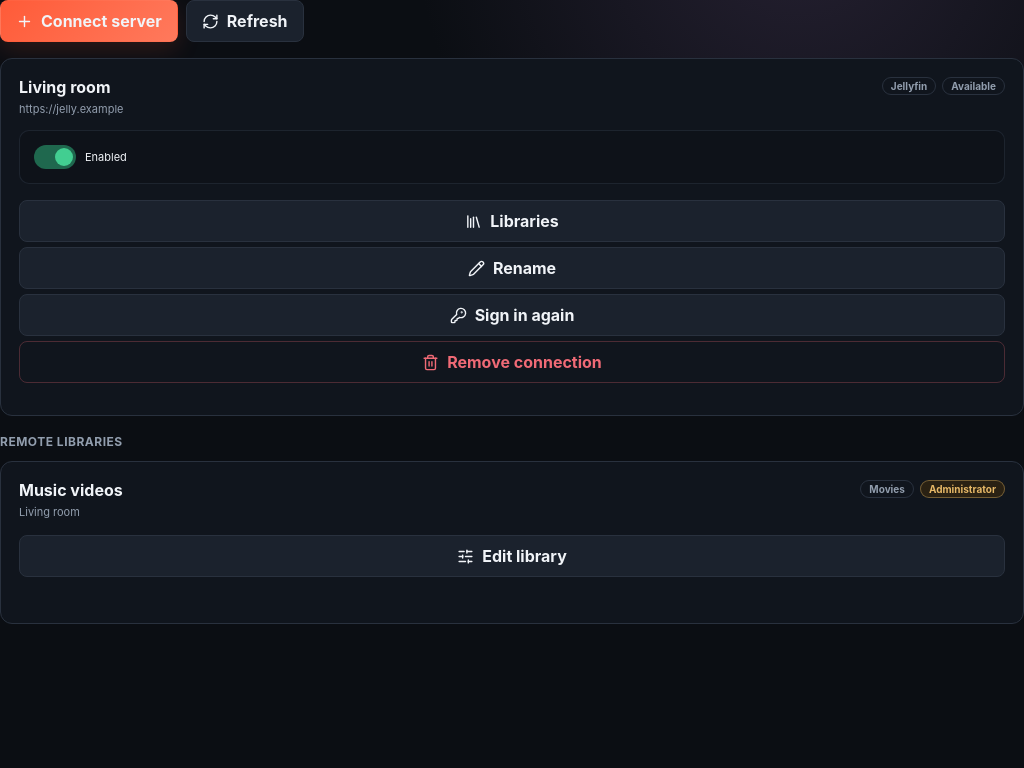
Test: RemoteLibraryDialog › shows one rule section per applicable kind with only the fitting writable libraries
Click the button "Edit library".
click(512, 556)  # box [19,535,1005,577]
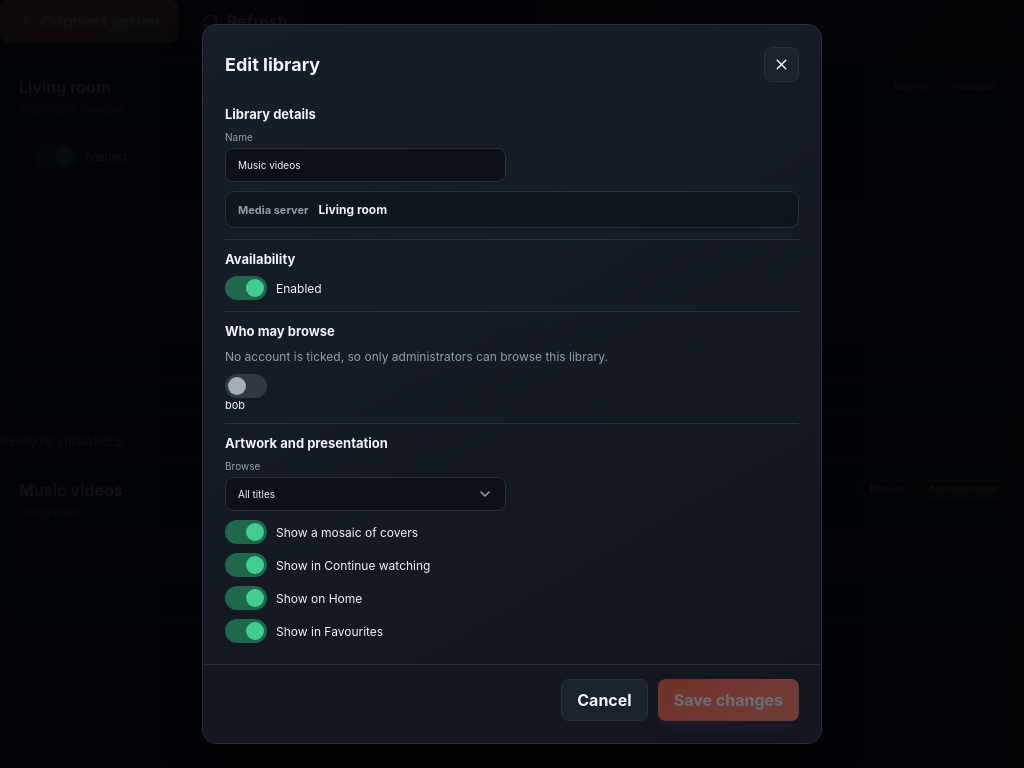
Check: the element with class "library-edit-card" is shown, box [202,24,822,744]
